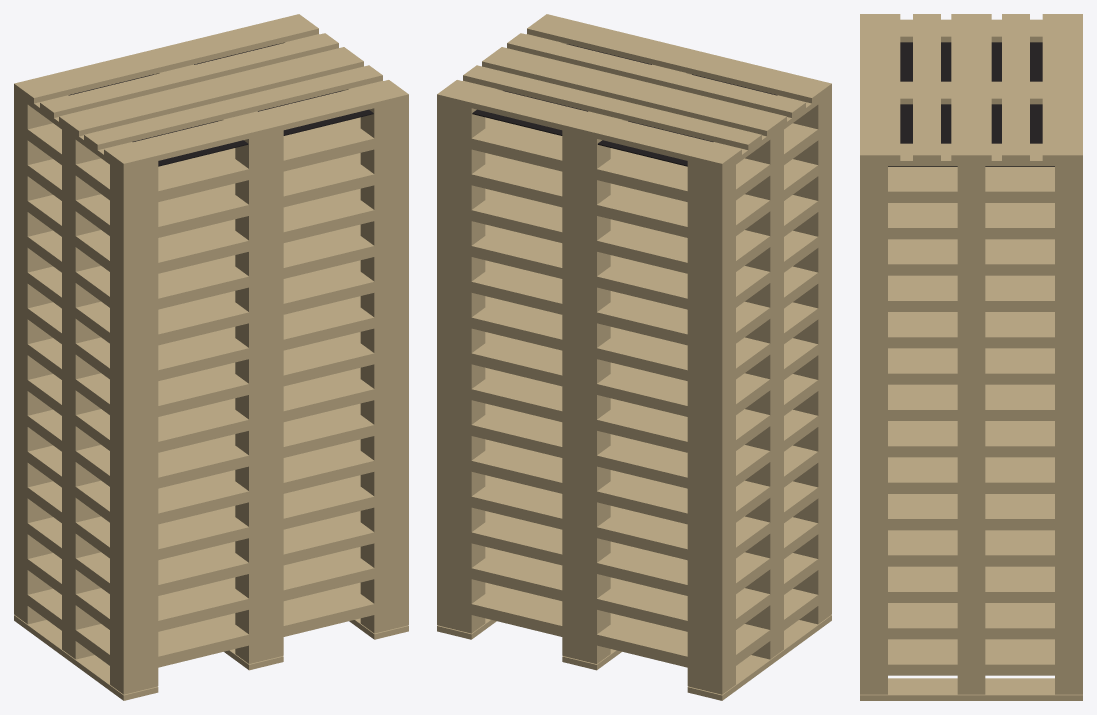
The model's file is stapel_pallets.glb.
The picture shows the model from 3 angles, left to right: view 1: azimuth 30°, elevation 25°; view 2: azimuth 150°, elevation 25°; view 3: azimuth 270°, elevation 25°; orthographic projection.
Visible parts, largest first — view 1: pallets; view 2: pallets; view 3: pallets.
Boxes of the visible parts, x1,y1,x2,y2 form: pallets: [14, 14, 408, 700]; pallets: [437, 14, 831, 700]; pallets: [860, 14, 1082, 700].
Size of the model in its own units: 1.2 by 2.16 by 0.8.
